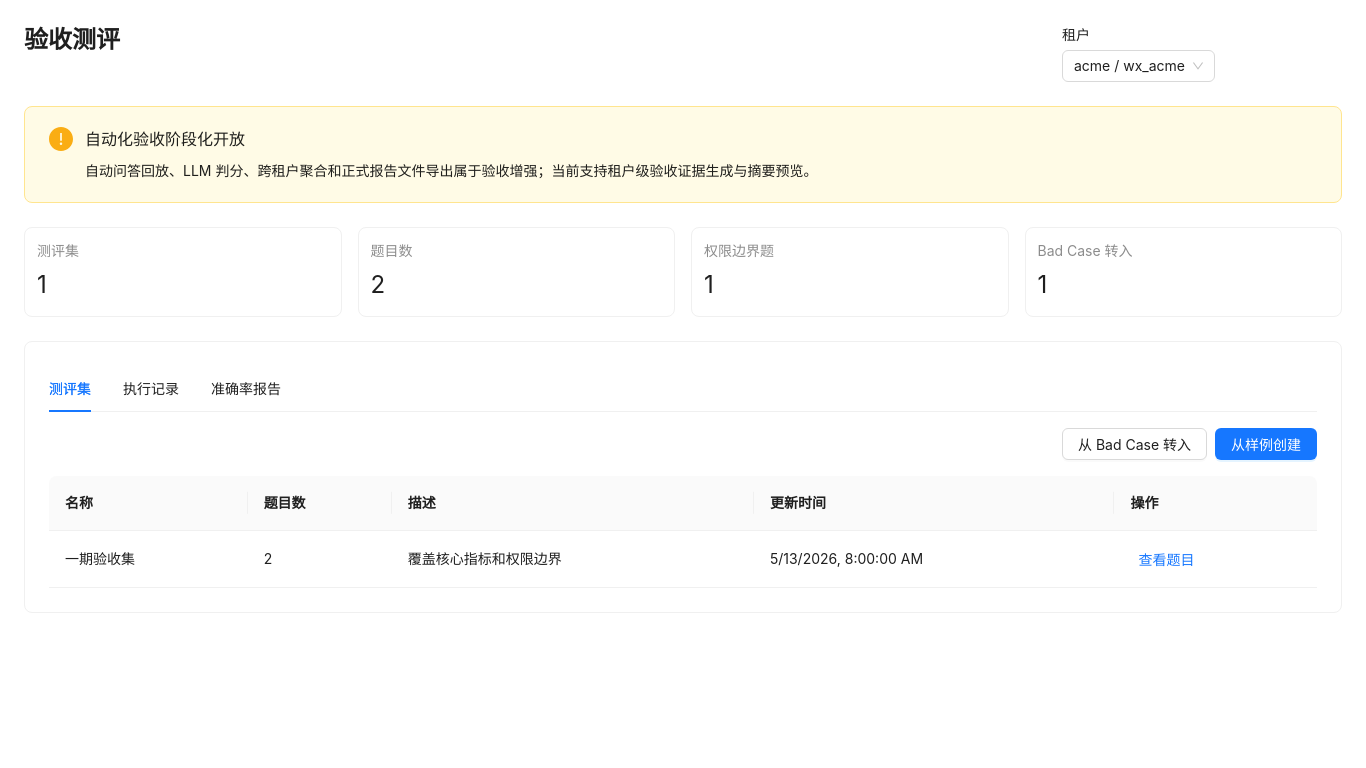
Test: EvaluationPage › shows loaded execution count in execution tab
Click the tab "执行记录" at (151, 389), box [123,378,179,400]
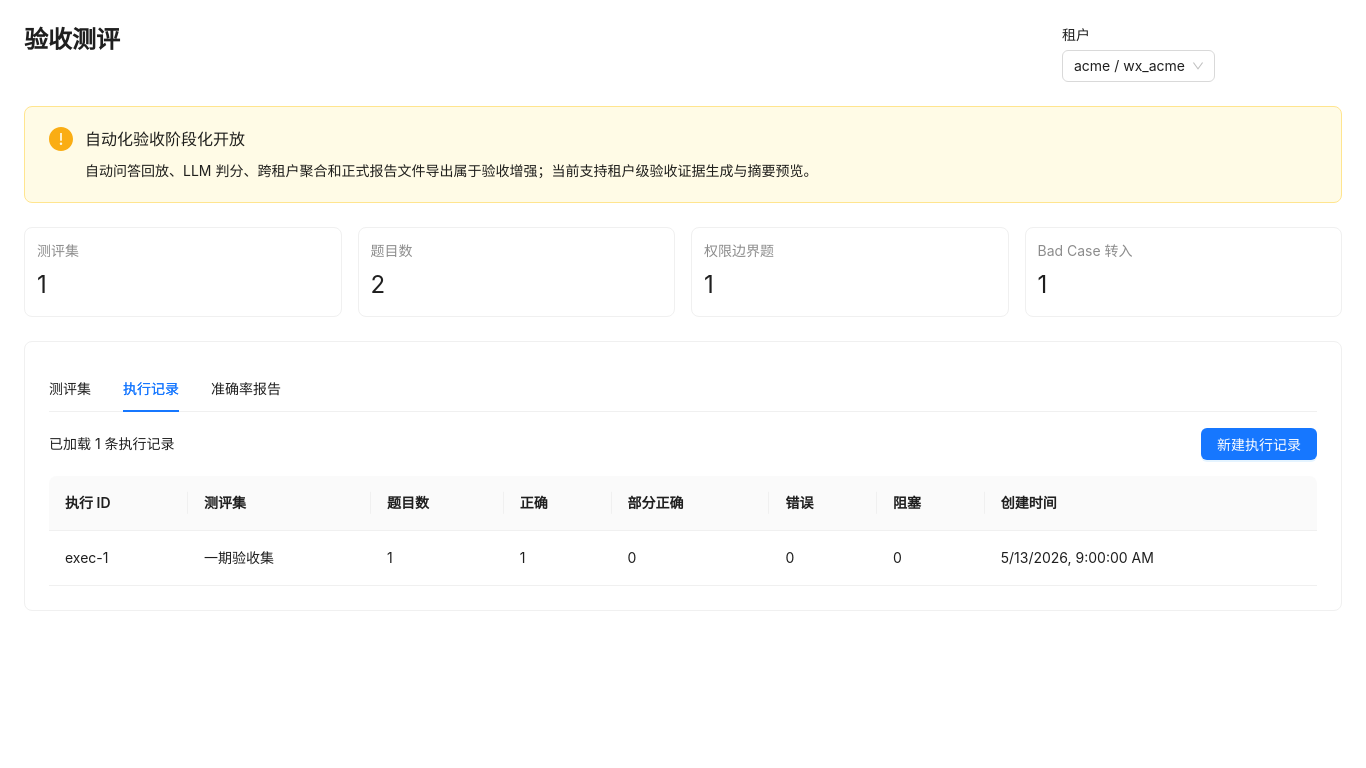
Result: the text "已加载 1 条执行记录" is shown at [49,435,175,452]
